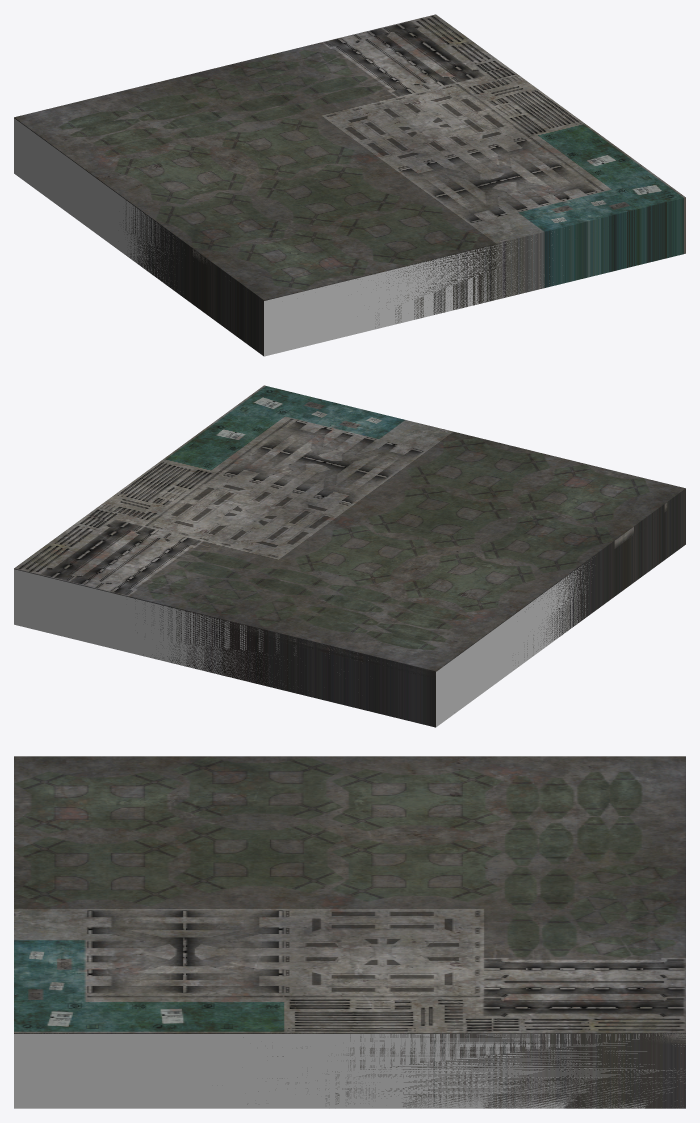
Rendered from SciFi_pallet.DAE.
3 views of the same model, one above another, from view 1: azimuth 30°, elevation 25°; view 2: azimuth 150°, elevation 25°; view 3: azimuth 270°, elevation 25° (orthographic). The views are drawn at different scales.
Parts seen in each view (by area): view 1: colbox-01, bounds; view 2: colbox-01, bounds, LP_pallet; view 3: colbox-01, bounds, LP_pallet.
Part boxes in pixels (box(x1,y1,x2,y2)): colbox-01: box(14, 14, 685, 356); bounds: box(14, 118, 553, 356); colbox-01: box(14, 385, 685, 727); bounds: box(14, 562, 593, 727); LP_pallet: box(14, 502, 667, 679); colbox-01: box(14, 756, 685, 1108); bounds: box(14, 1034, 684, 1108); LP_pallet: box(15, 1033, 685, 1044).
Size of the model in its own units: 154 by 158 by 19.6.
